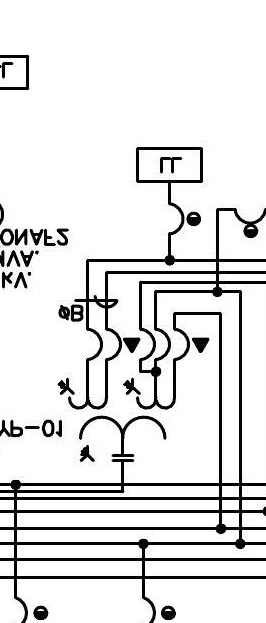115_cvt_3p: (57, 377, 177, 462)
LL: (136, 147, 203, 183)
